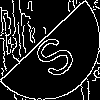S: (25, 25, 79, 82)
